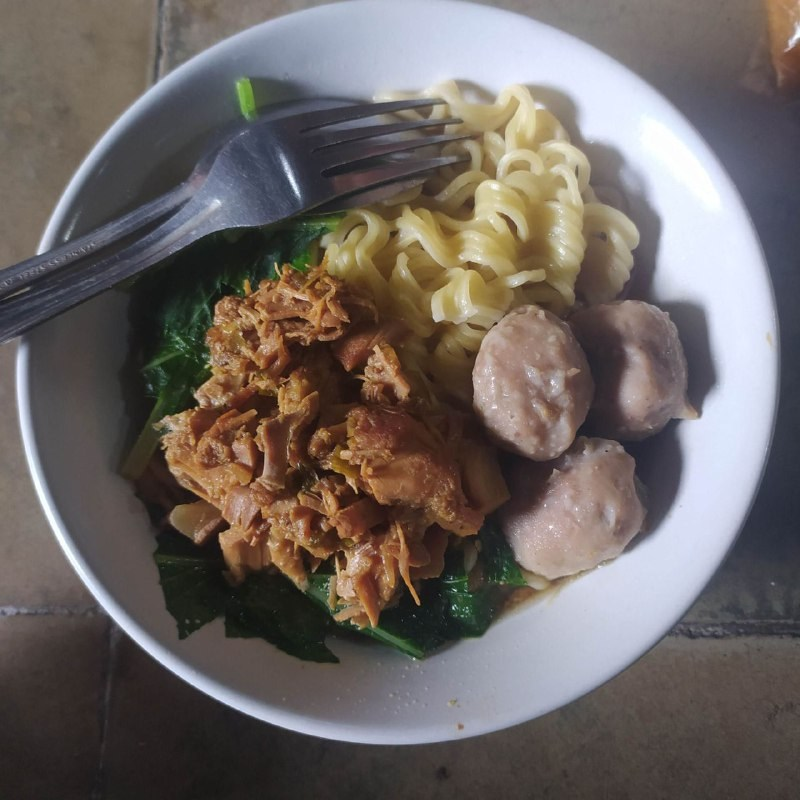Bakso: (52, 39, 773, 688)
